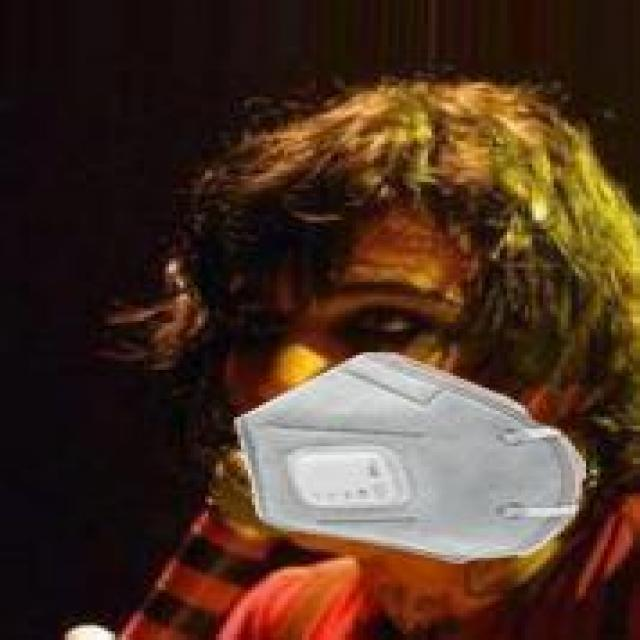mask: (165, 100, 626, 564)
